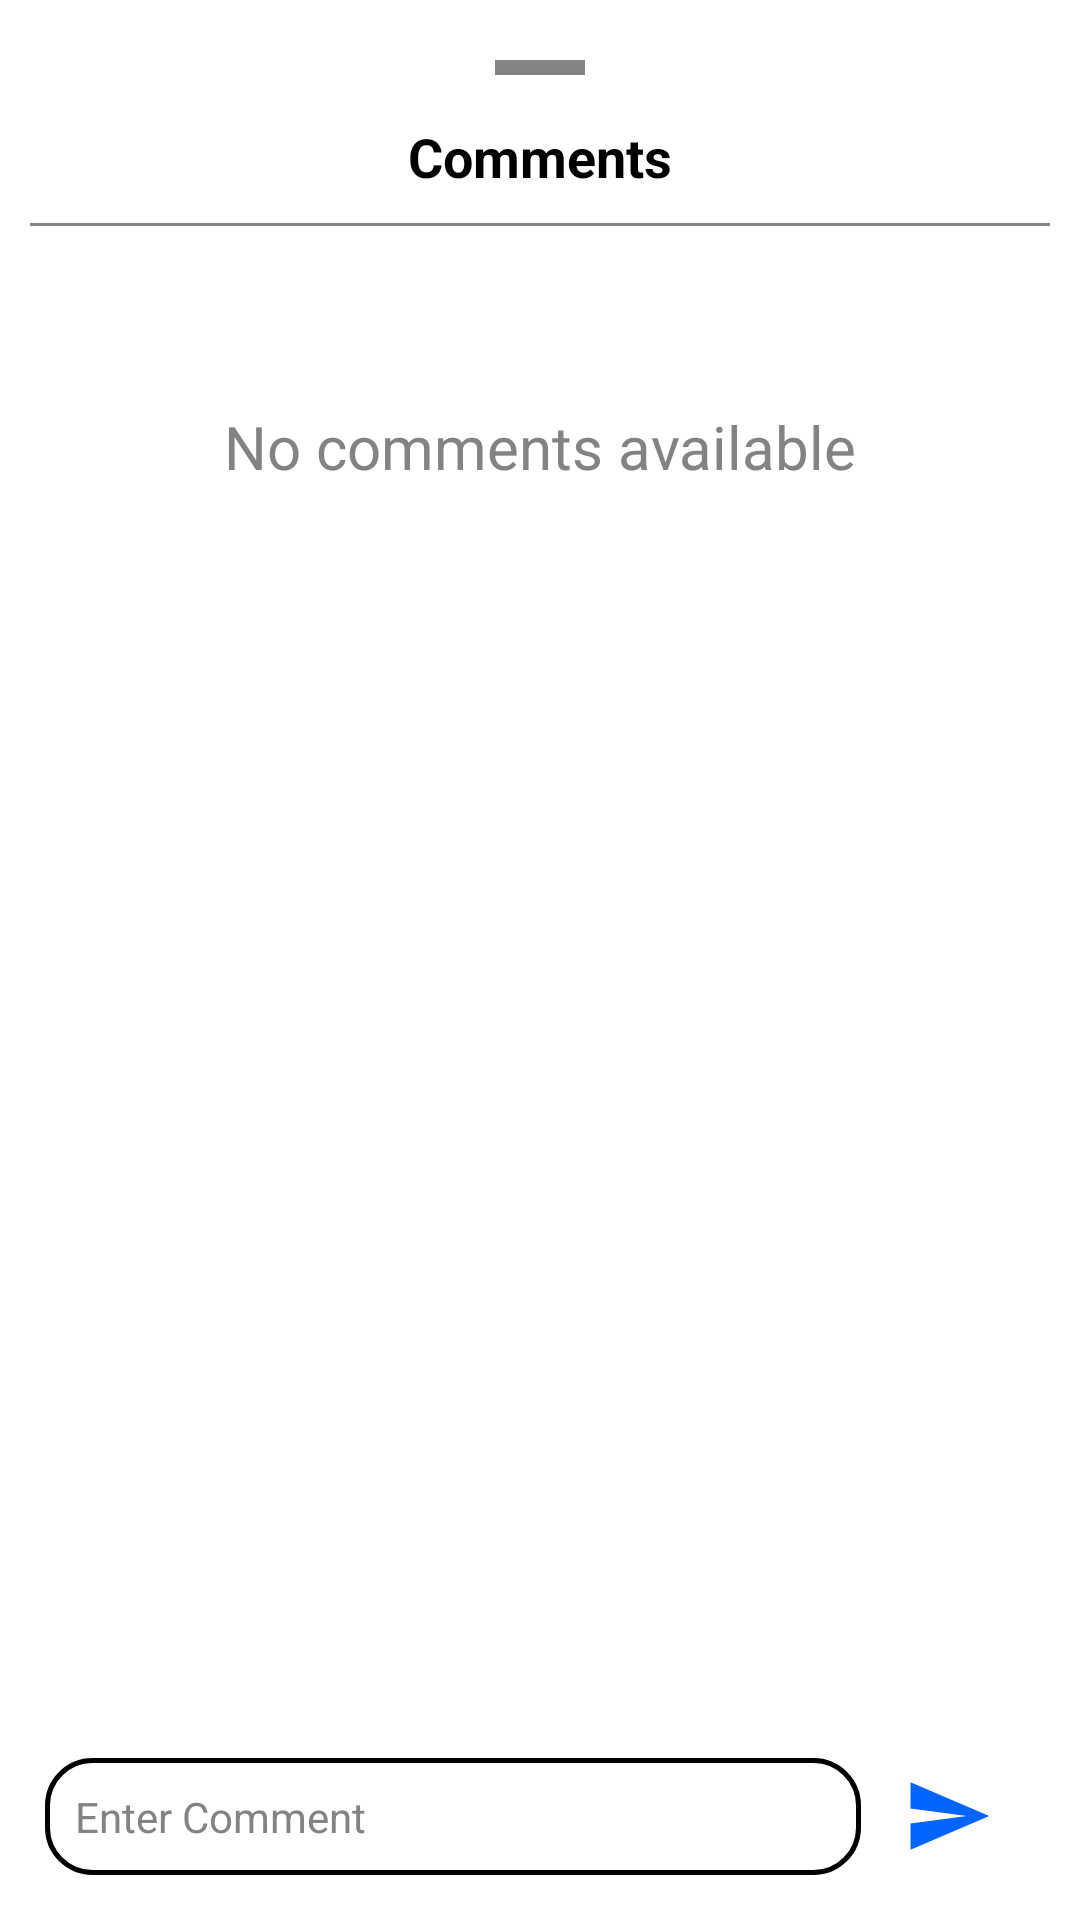

Locate icon controls on the screen. Image size 1080px x 1920px, boxes as [left=x1, top=y1, right=x2, bottom=y2].
send: [left=910, top=1782, right=989, bottom=1850]
